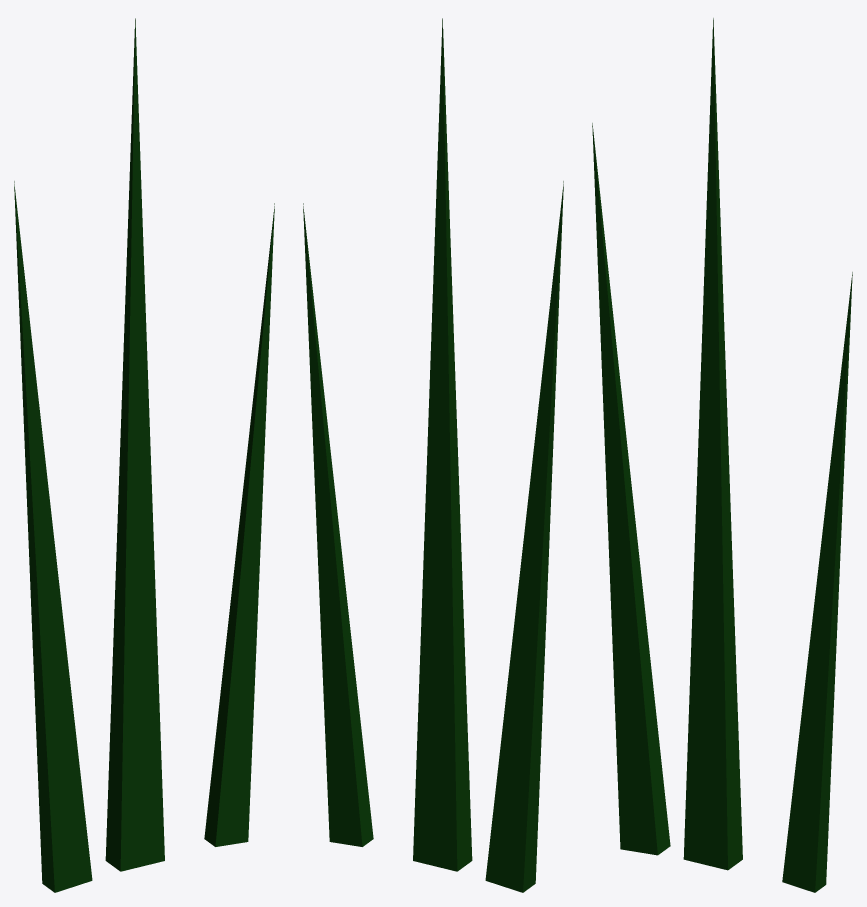
The picture shows the model from 3 angles, left to right: view 1: azimuth 30°, elevation 25°; view 2: azimuth 150°, elevation 25°; view 3: azimuth 330°, elevation 25°; orthographic projection.
Parts seen in each view (by area): view 1: Grass_2_mat_Cube.054; view 2: Grass_2_mat_Cube.054; view 3: Grass_2_mat_Cube.054.
Part boxes in pixels (x1,y1,x2,y2): Grass_2_mat_Cube.054: [14, 18, 274, 892]; Grass_2_mat_Cube.054: [303, 18, 563, 892]; Grass_2_mat_Cube.054: [592, 18, 852, 892].
Size of the model in its own units: 0.1467 by 0.4583 by 0.0145.
